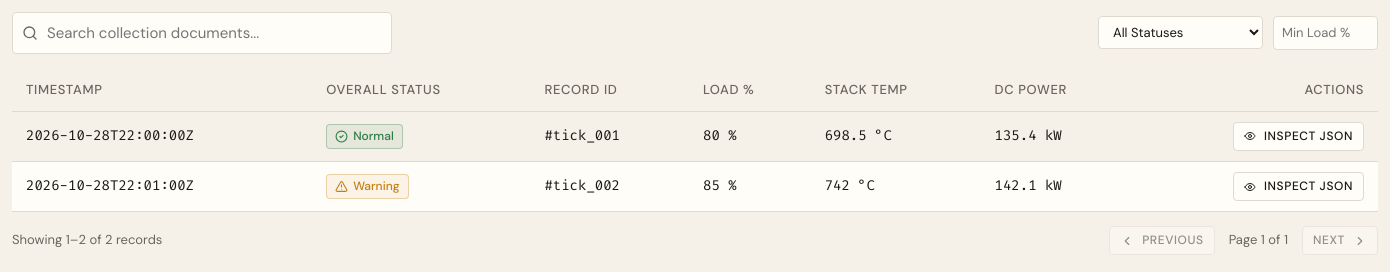
Milestone 2 Adversarial & Empirical Stress Suite (Database Explorer) › Empty Query Results & Filtering Edge Cases › renders exact 'No documents found matching the filter' when filter removes all rows
Expected: the text "#tick_001" is shown, [530, 111, 689, 162]
Step 1. Type "999" into the number field named "Filter ticks by minimum load percentage" → (1326, 33), box [1273, 16, 1378, 50]
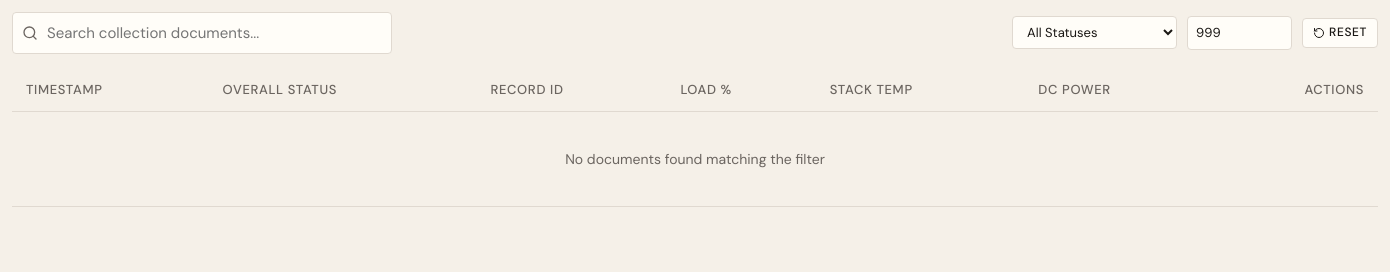
Result: the text "No documents found matching the filter" is shown at [12, 111, 1378, 207]
Result: the text "#tick_001" is gone
